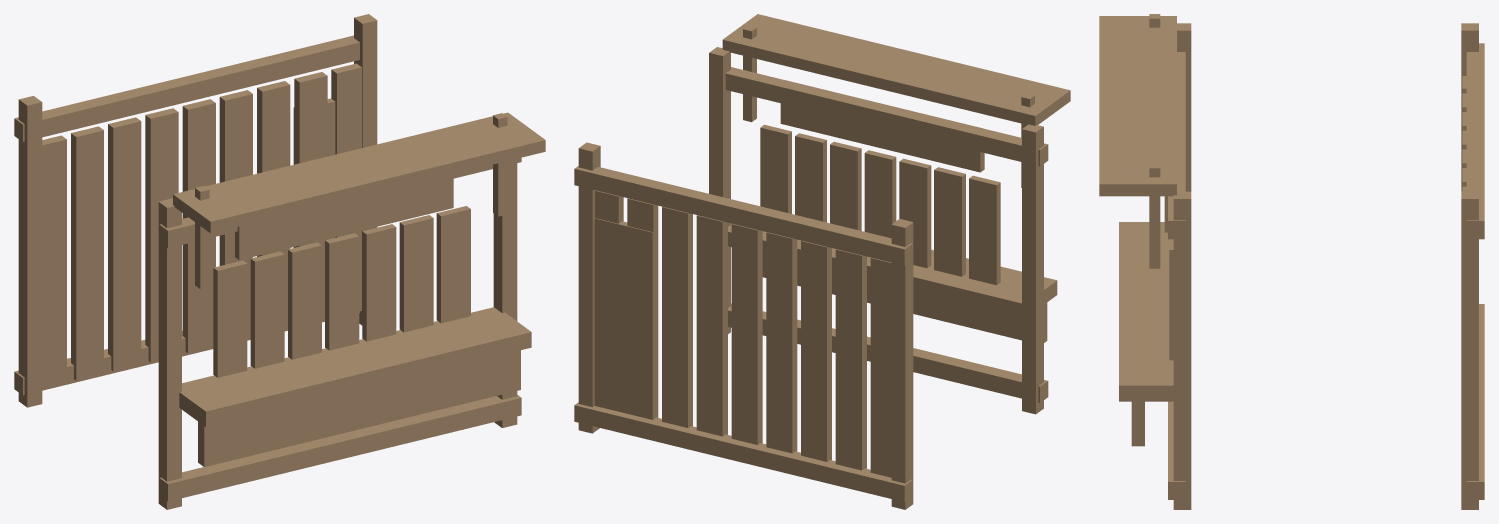
File: lwf_service_point_v1.glb
3 views of the same model, side by side, from view 1: azimuth 30°, elevation 25°; view 2: azimuth 150°, elevation 25°; view 3: azimuth 270°, elevation 25° (orthographic). The views are drawn at different scales.
Parts seen in each view (by area): view 1: LWF_ServicePoint_Shell, LWF_ServicePoint_Counter, LWF_ServicePoint_Awning, LWF_ServicePoint_Signage; view 2: LWF_ServicePoint_Shell, LWF_ServicePoint_Counter, LWF_ServicePoint_Awning, LWF_ServicePoint_Signage; view 3: LWF_ServicePoint_Shell, LWF_ServicePoint_Awning, LWF_ServicePoint_Counter.
Part boxes in pixels (x1,y1,x2,y2): LWF_ServicePoint_Shell: (14, 14, 521, 509); LWF_ServicePoint_Counter: (179, 206, 531, 466); LWF_ServicePoint_Awning: (173, 112, 545, 289); LWF_ServicePoint_Signage: (235, 174, 453, 260); LWF_ServicePoint_Shell: (574, 47, 1048, 509); LWF_ServicePoint_Counter: (728, 124, 1057, 342); LWF_ServicePoint_Awning: (722, 14, 1070, 187); LWF_ServicePoint_Signage: (780, 80, 984, 172); LWF_ServicePoint_Shell: (1168, 23, 1484, 509); LWF_ServicePoint_Awning: (1099, 14, 1176, 268); LWF_ServicePoint_Counter: (1119, 222, 1173, 446).
Bounding box in the file's own units: 3.8 × 3.3 × 3.48.
